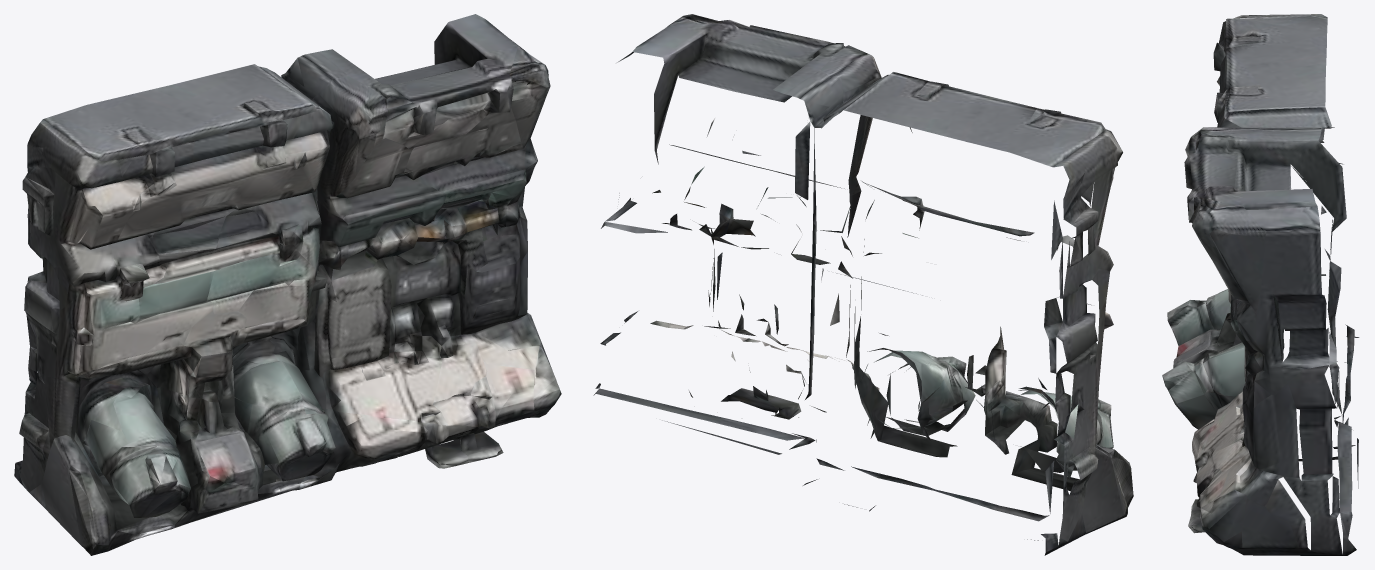
The model's file is hangar_panel_b.glb.
3 views of the same model, side by side, from view 1: azimuth 30°, elevation 25°; view 2: azimuth 150°, elevation 25°; view 3: azimuth 270°, elevation 25° (orthographic). The views are drawn at different scales.
Parts seen in each view (by area): view 1: hangar_panel_b; view 2: hangar_panel_b; view 3: hangar_panel_b.
Part boxes in pixels (x1,y1,x2,y2): hangar_panel_b: (14, 14, 561, 555); hangar_panel_b: (593, 14, 1133, 555); hangar_panel_b: (1162, 14, 1359, 555).
Bounding box in the file's own units: 0.3815 × 0.2996 × 0.1491.
1 material, 1 textured.
